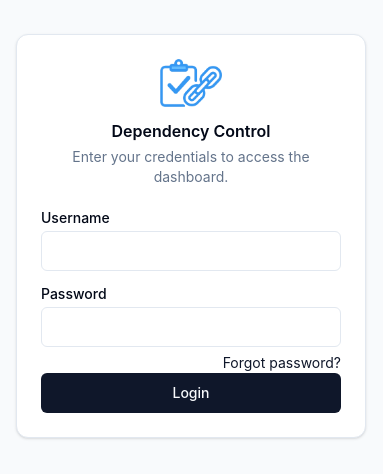
Scenario: auth page announcements › announces a refused login
Type "lena" into the field labelled "Username" at (191, 251), box [41,231,341,271]
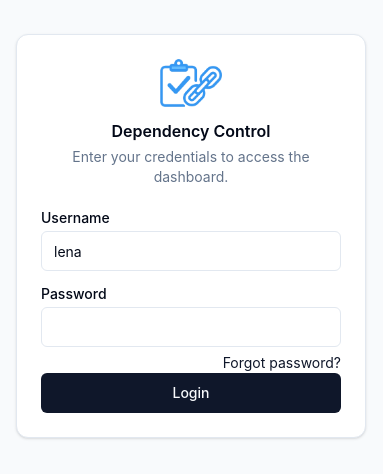
Type "wrong" into the password field labelled "Password" at (191, 327), box [41,307,341,347]
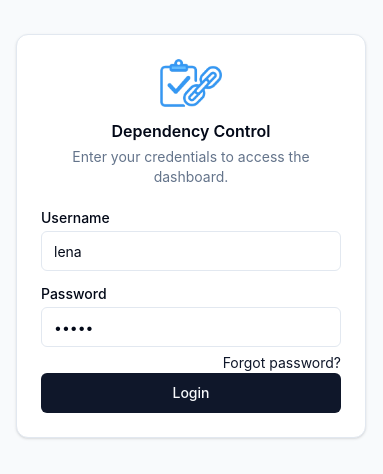
Click the button "Login" at (191, 393), box [41,373,341,413]
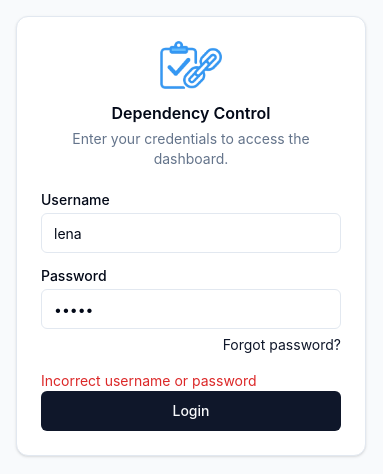
Now the message reads "Incorrect username or password", box [41,372,257,389]
